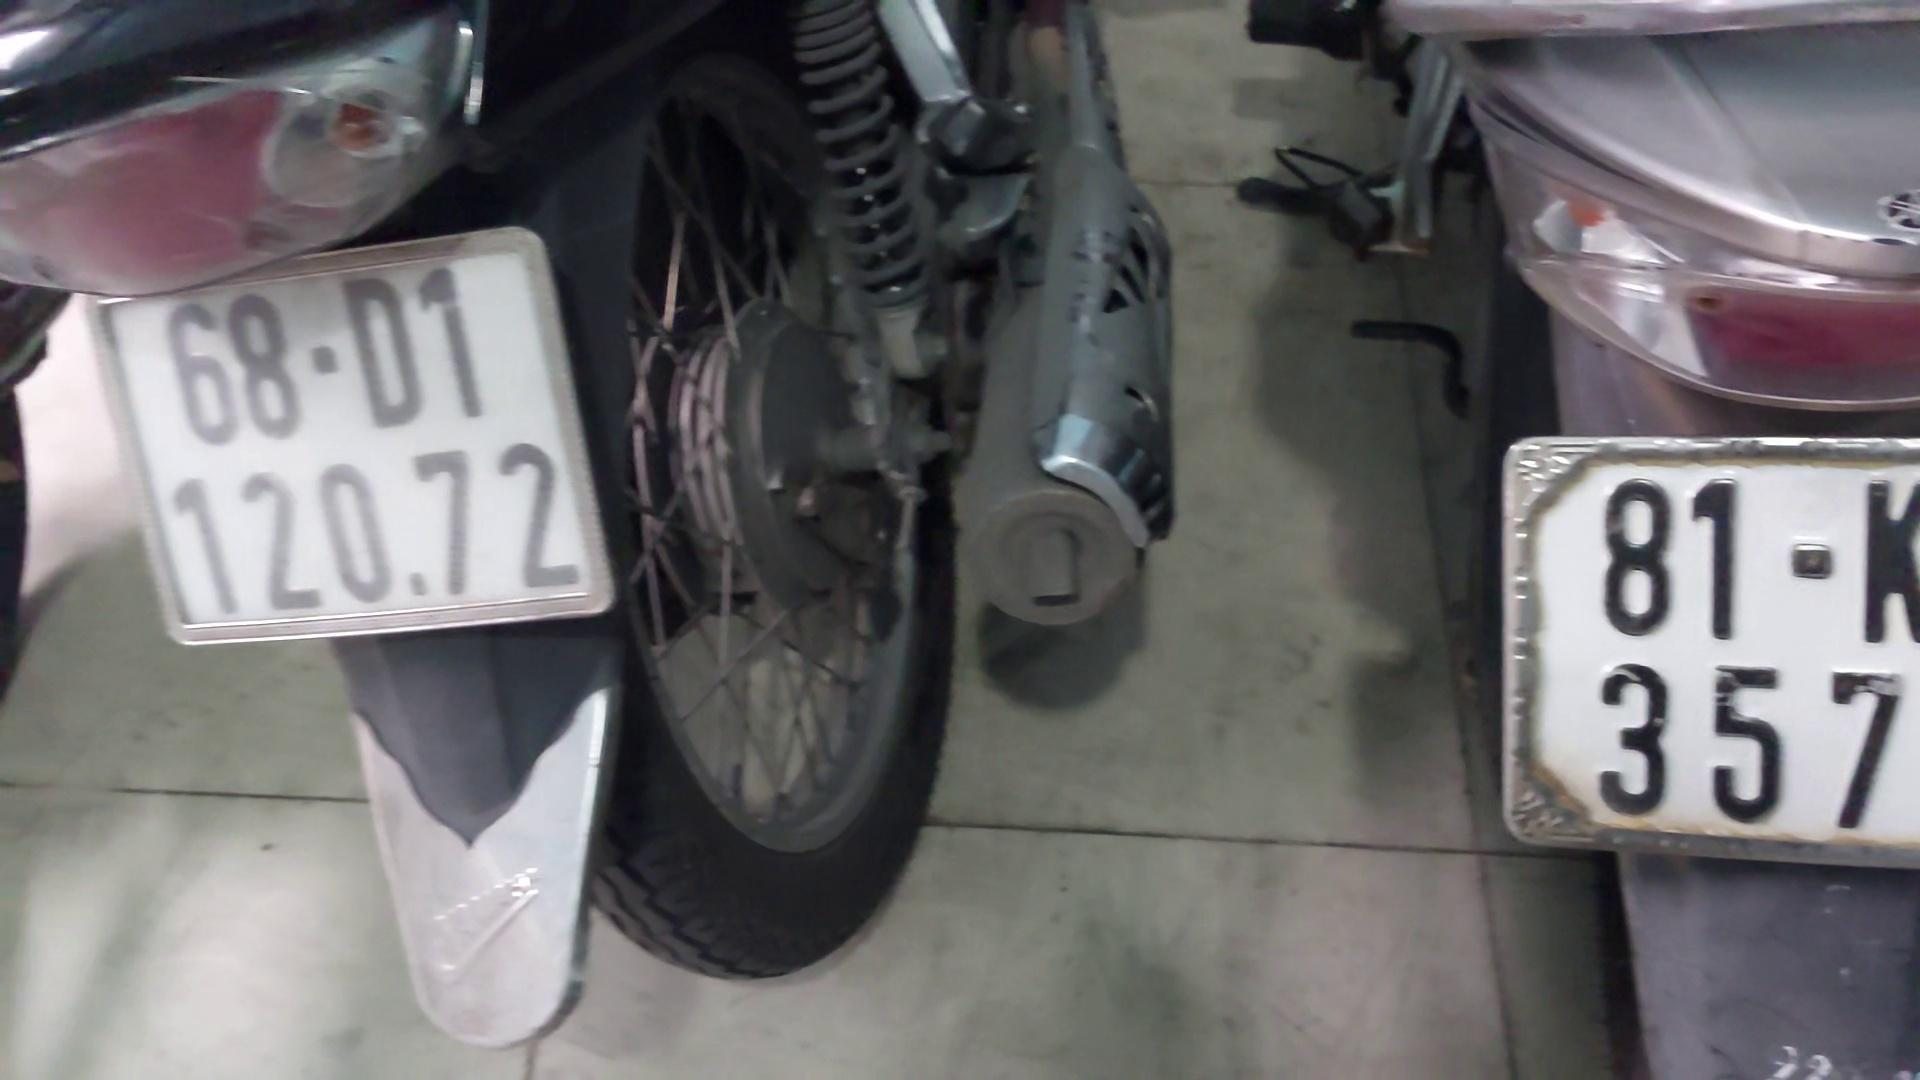numplate: (90, 243, 613, 650), (1497, 420, 1920, 877)
